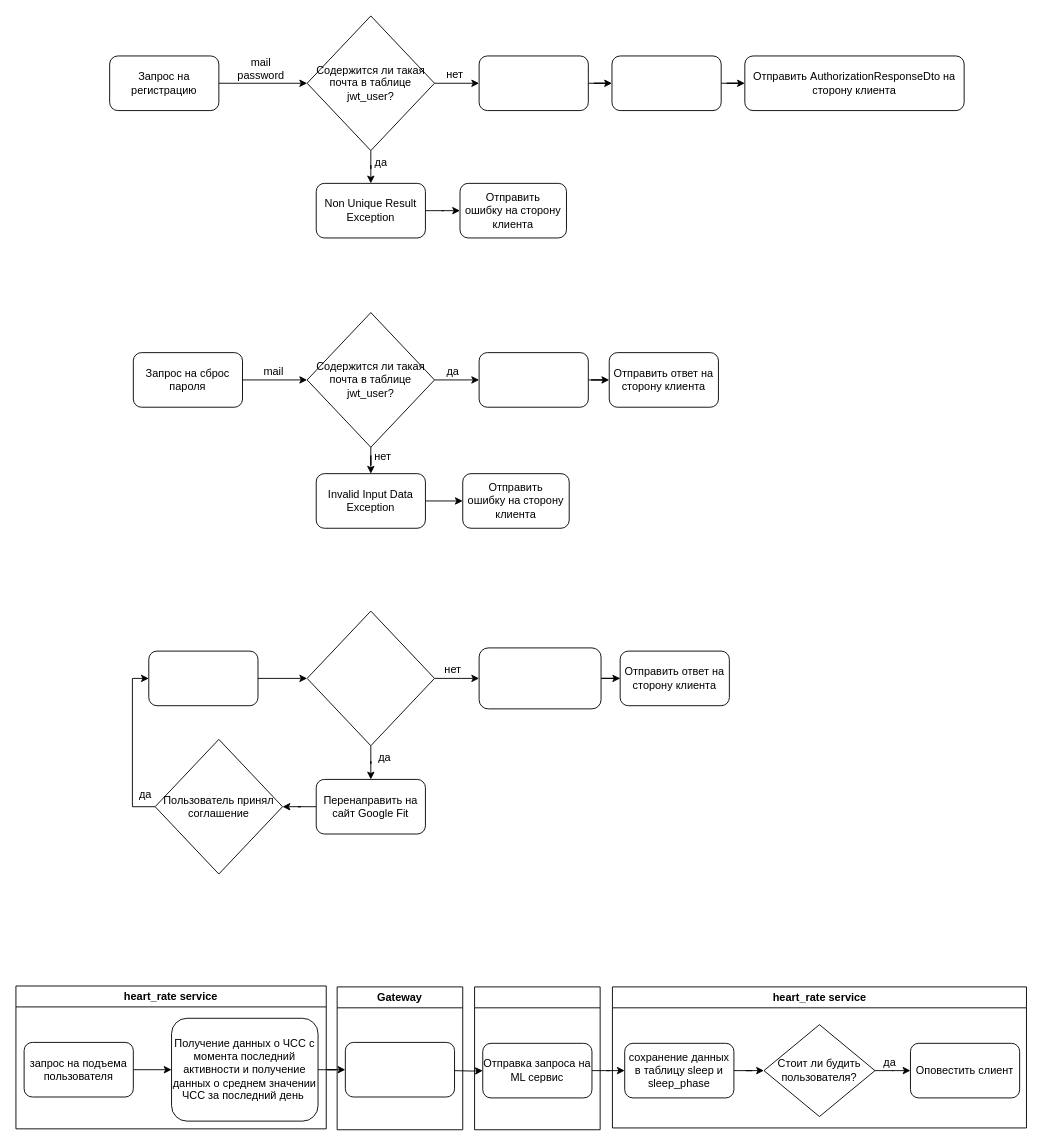
Some shapes in this 1043 by 1146 pixel diagram are drawn without their labels. The shapes that lost their labels are listed below. From the top down, each one's centre as x and y in pixels, then its label:
the point at 533,83: Сгенерировать token и refresh_token
the point at 666,83: Создать сущность в таблице user и jwt_user
the point at 533,379: Отправить письмо на почту пользователя
the point at 203,678: запрос на вход в аккаунт Google Fit
the point at 370,678: Тело запроса пустое?
the point at 539,678: сохранить google_token и google_refresh_token в таблицу jwt_user
the point at 399,1069: Определение на какой ML сервис отправить запрос
the point at 537,1058: ML service #N
